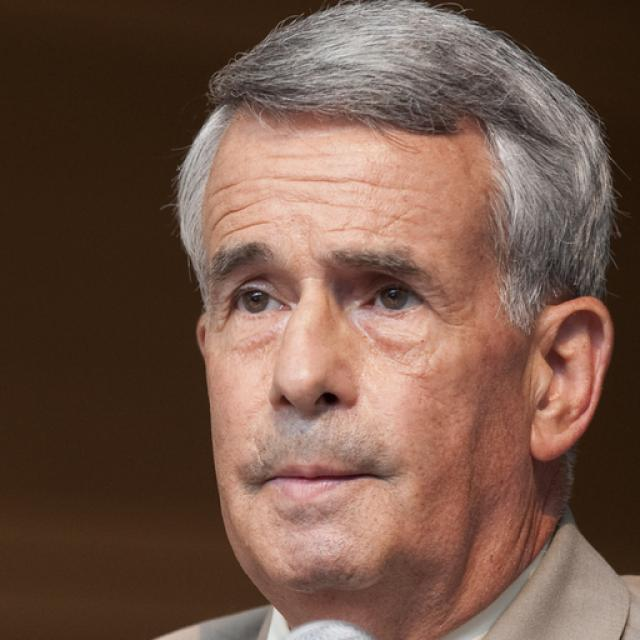Wrinkle: (214, 162, 401, 199), (290, 194, 412, 227), (206, 195, 272, 234), (324, 216, 387, 242), (214, 214, 273, 241)
